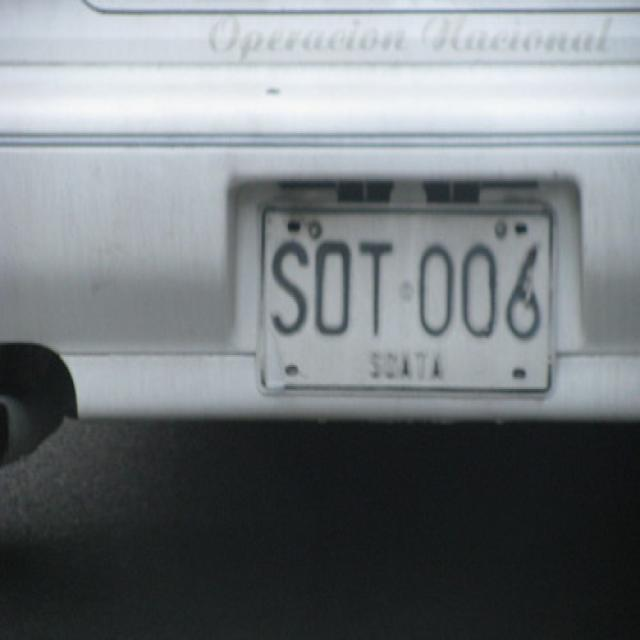placas: (260, 230, 547, 348)
